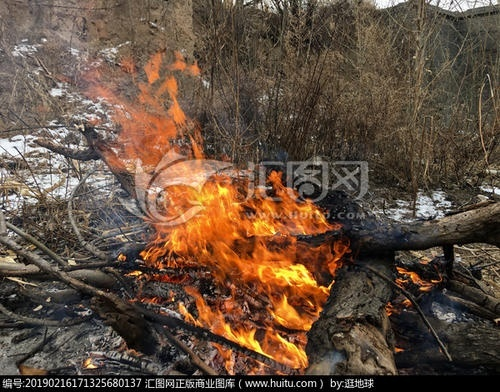fire: (112, 50, 357, 366), (389, 255, 440, 310)
